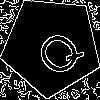Q: (26, 21, 87, 82)
